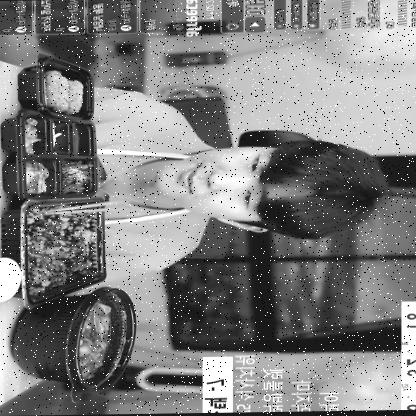streamer: (83, 83, 393, 290)
